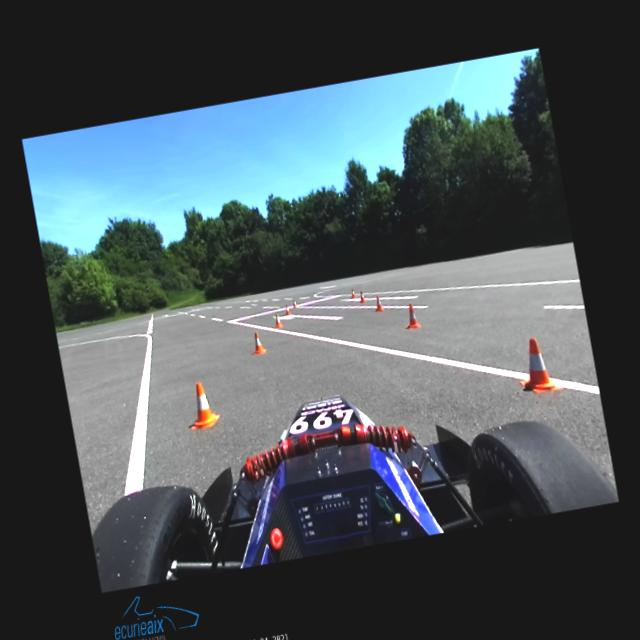orange_cone: (512, 334, 562, 396), (184, 379, 220, 428), (404, 302, 421, 328), (250, 330, 266, 354), (374, 294, 384, 311), (274, 312, 282, 328), (358, 290, 365, 302), (350, 288, 356, 298), (284, 304, 290, 314), (292, 299, 296, 307)
